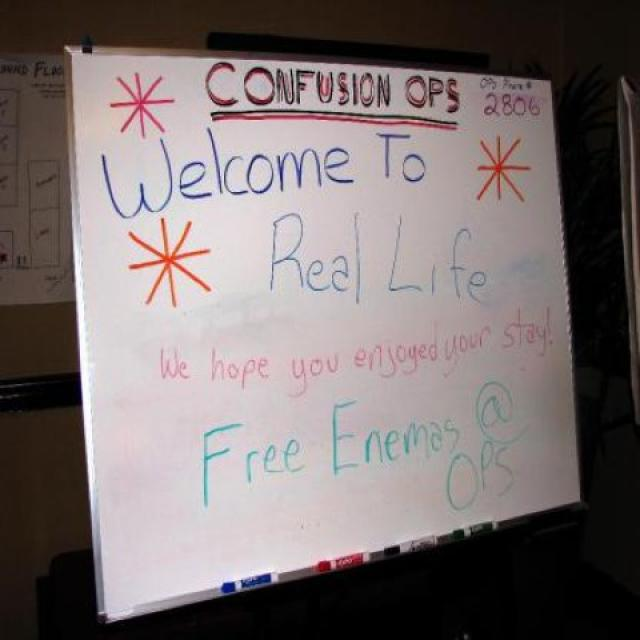White-board: (68, 47, 580, 616)
